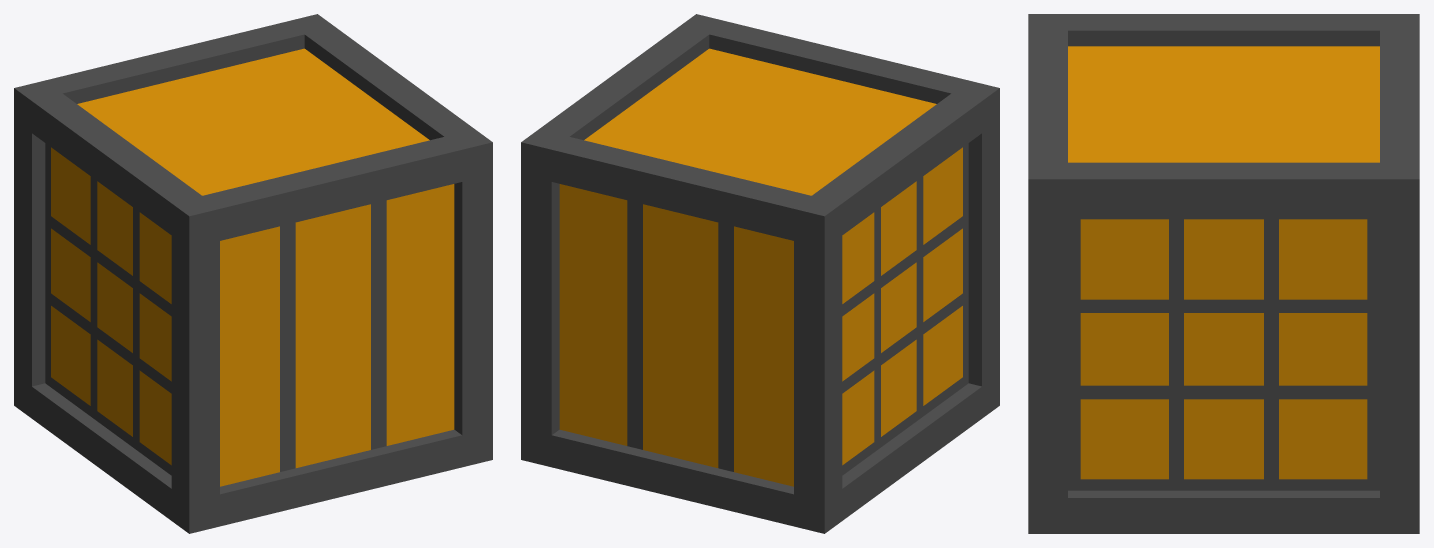
Rendered from obj_dekotora_cube.fbx.
3 views of the same model, side by side, from view 1: azimuth 30°, elevation 25°; view 2: azimuth 150°, elevation 25°; view 3: azimuth 270°, elevation 25° (orthographic). The views are drawn at different scales.
Visible parts, largest first — view 1: Cube.077, Cube.080, Cube.078, Cube.079; view 2: Cube.077, Cube.080, Cube.078, Cube.079; view 3: Cube.078, Cube.077, Cube.079.
Part boxes in pixels (x1,y1,x2,y2): Cube.077: (14, 14, 492, 533); Cube.080: (220, 184, 454, 486); Cube.078: (45, 143, 171, 475); Cube.079: (77, 48, 429, 195); Cube.077: (521, 14, 999, 533); Cube.080: (559, 184, 793, 486); Cube.078: (842, 143, 968, 475); Cube.079: (584, 48, 936, 195); Cube.078: (1068, 215, 1379, 490); Cube.077: (1028, 14, 1419, 533); Cube.079: (1068, 46, 1379, 162).
Size of the model in its own units: 3 by 3 by 3.
